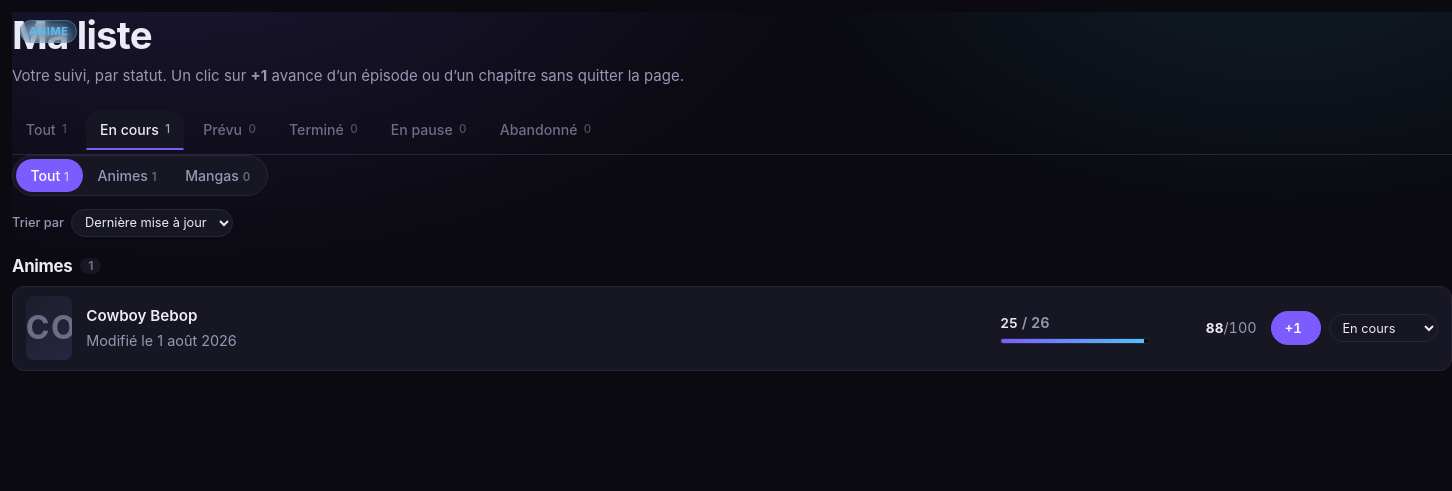
Test: ListPage — le bouton « +1 » › propose « terminé » — sans l’imposer — en atteignant le total
Click the button "+1": (1296, 328) [1271,311,1321,345]
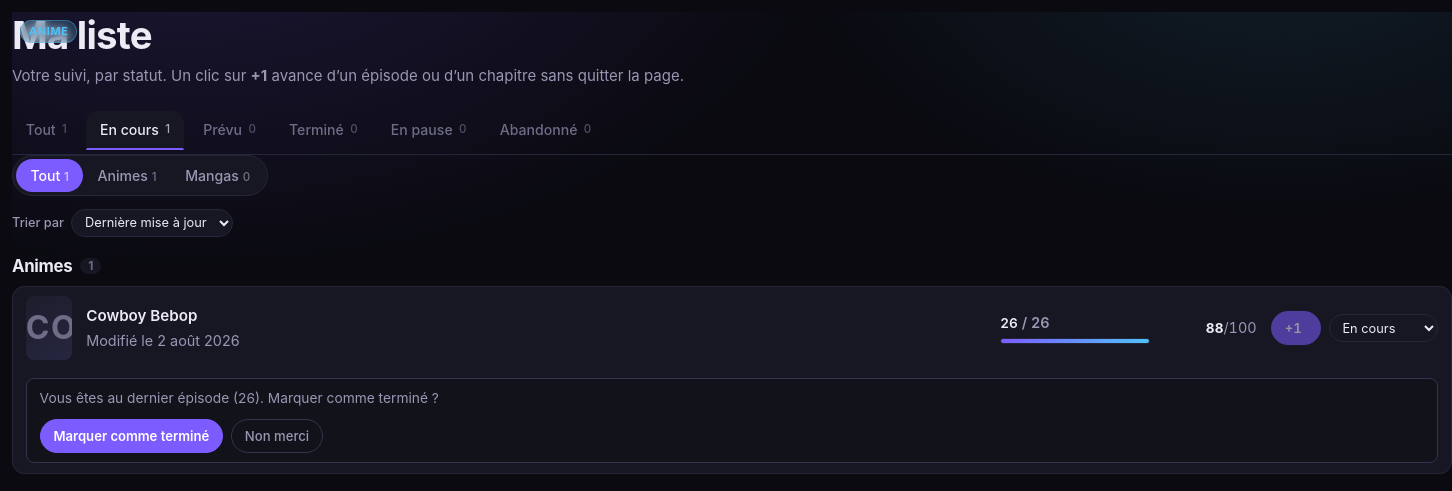
Expected: the message shows "Marquer comme terminé", [40,419,223,453]
